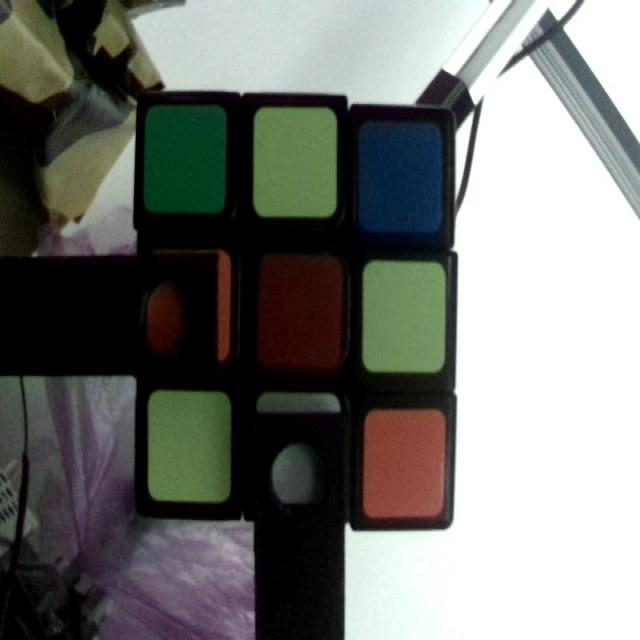b: (362, 122, 441, 228)
g: (145, 106, 222, 209)
o: (150, 246, 228, 362), (366, 407, 448, 517)
r: (260, 257, 338, 367)
w: (256, 402, 343, 514)
y: (146, 387, 231, 500), (363, 259, 444, 372), (257, 107, 338, 219)
